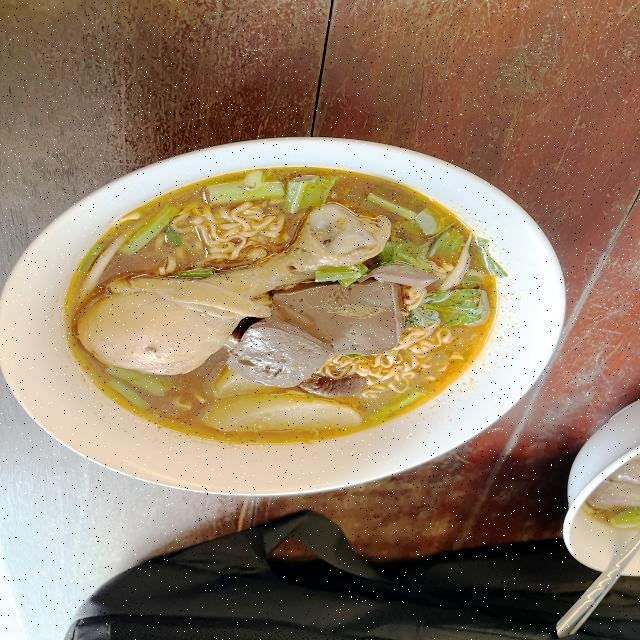boiled_chicken_blood_jelly: (231, 319, 328, 385), (284, 290, 398, 346)
chicken_drumstick: (75, 201, 391, 374)
daikon_radish: (203, 393, 358, 438), (214, 369, 269, 399)
noodle: (49, 160, 489, 450)
